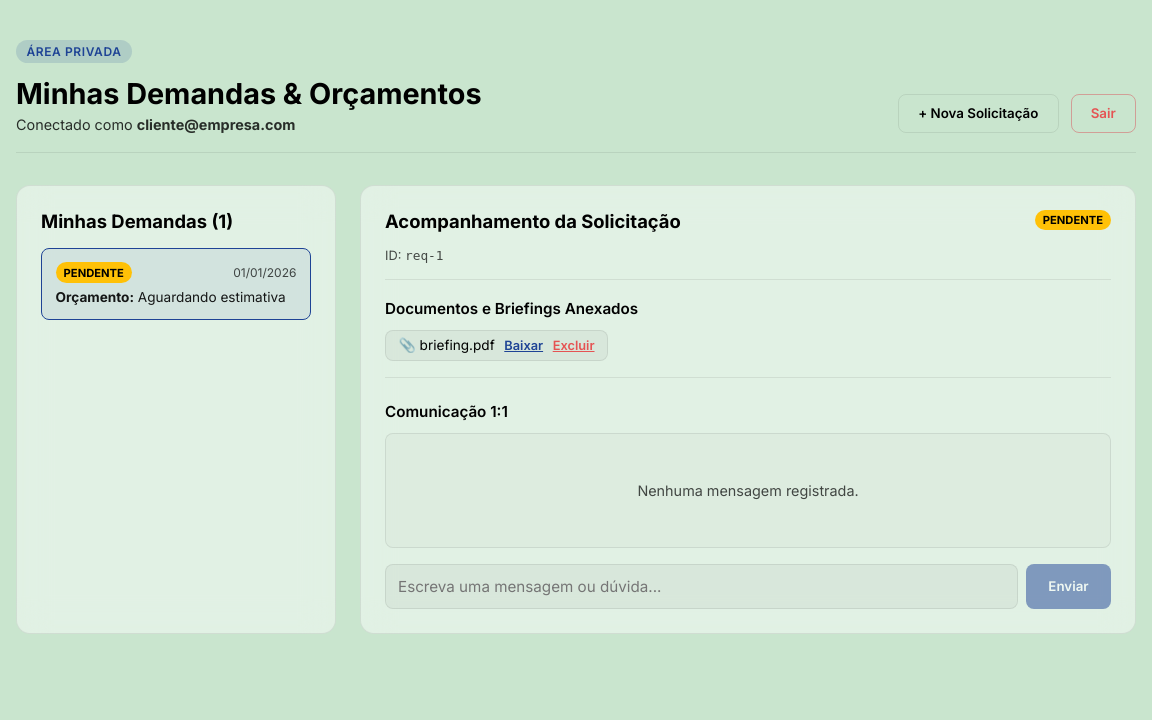
Portal Component (Área Privada do Cliente) › Exclusão de Anexos (LGPD — Issue #17) › exclui o anexo com sucesso: remove do storage, da tabela, da lista e mostra mensagem
The image size is (1152, 720).
Click the button with aria-label "Excluir briefing.pdf": coordinates (574, 345) x1=553 y1=338 x2=594 y2=353
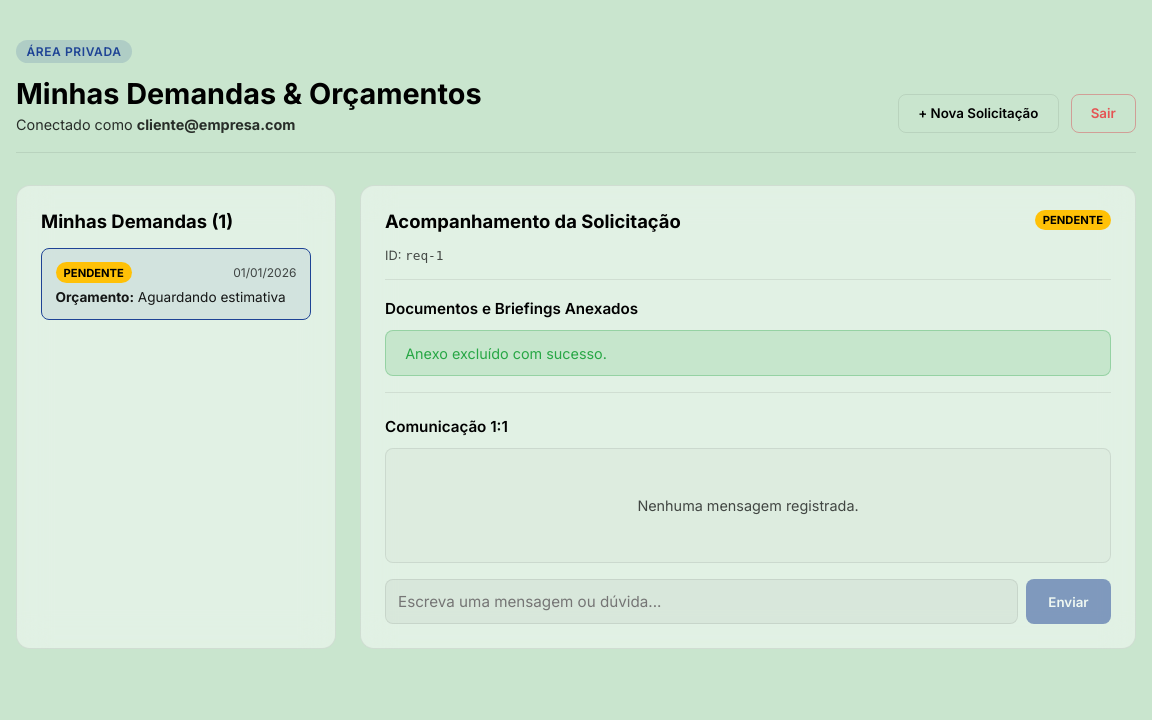
Expected: the text "briefing.pdf" is gone
Expected: the text "Anexo excluído com sucesso." is shown, x1=385 y1=330 x2=1111 y2=376
